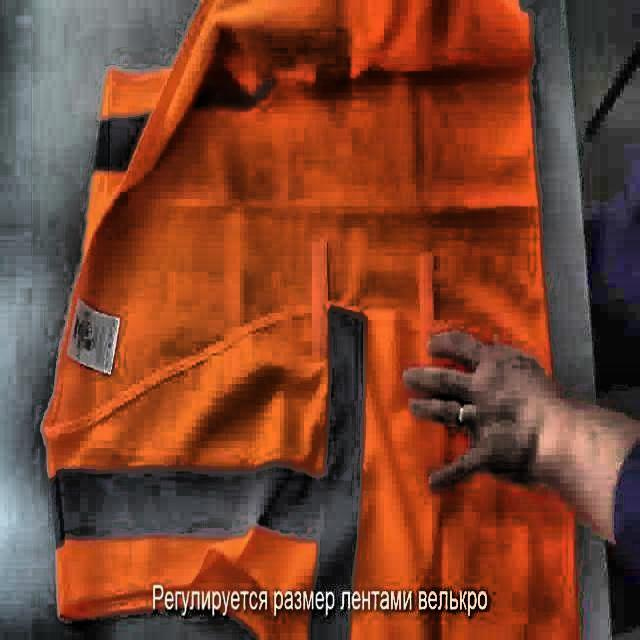safety_jacket: (41, 0, 580, 640)
